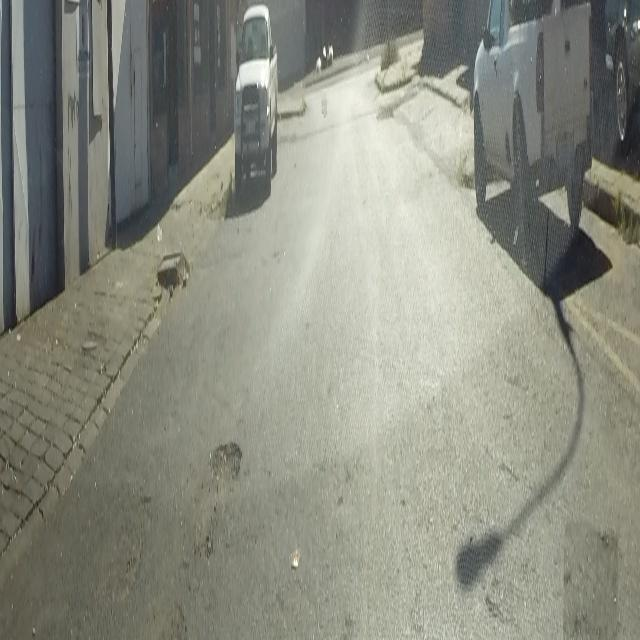pothole: (209, 430, 242, 499)
